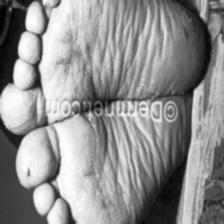Non-Cancerous Skin Condition: (78, 162, 118, 218), (64, 27, 72, 39), (27, 161, 32, 178)
